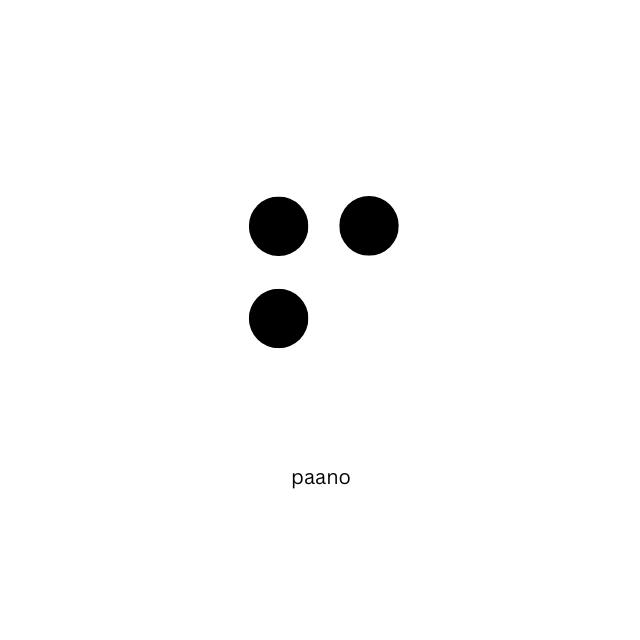one_cell_alphabet_paano: (247, 193, 402, 453)
